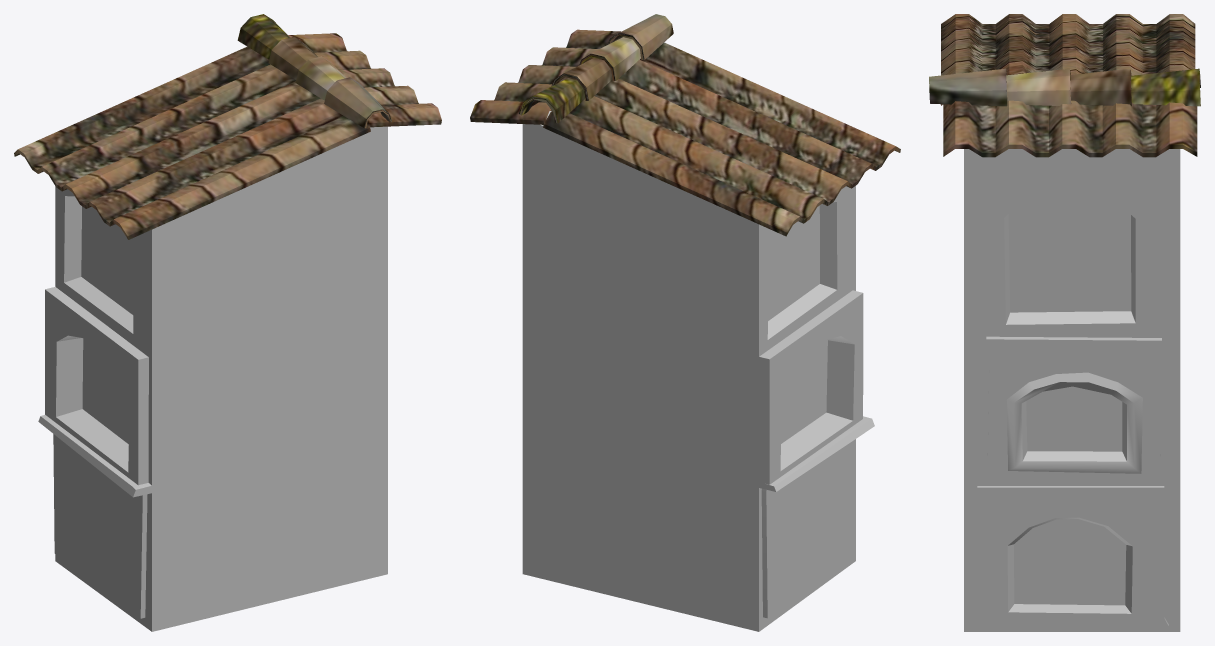
Rendered from nicho_grande_4.fbx.
3 renders of one model, left to right at view 1: azimuth 30°, elevation 25°; view 2: azimuth 150°, elevation 25°; view 3: azimuth 270°, elevation 25°, orthographic. The views are drawn at different scales.
Parts seen in each view (by area): view 1: Cube.027, Cube.028, Cube.026, Cube.002, Cube.025, Cube.003, Cube.024; view 2: Cube.027, Cube.028, Cube.026, Cube.025, Cube.002, Cube.003, Cube.024; view 3: Cube.027, Cube.028, Cube.026, Cube.002, Cube.025, Cube.003, Cube.024.
Boxes of the visible parts, left/top/right/bottom form: Cube.027: left=38, top=126, right=387, bottom=631; Cube.028: left=14, top=46, right=370, bottom=239; Cube.026: left=288, top=33, right=441, bottom=127; Cube.002: left=324, top=77, right=391, bottom=128; Cube.025: left=237, top=14, right=289, bottom=59; Cube.003: left=295, top=56, right=345, bottom=100; Cube.024: left=268, top=36, right=317, bottom=79; Cube.027: left=522, top=111, right=874, bottom=631; Cube.028: left=543, top=42, right=900, bottom=236; Cube.026: left=470, top=29, right=620, bottom=124; Cube.025: left=518, top=78, right=584, bottom=123; Cube.002: left=607, top=14, right=673, bottom=59; Cube.003: left=579, top=37, right=640, bottom=80; Cube.024: left=551, top=58, right=612, bottom=100; Cube.027: left=964, top=149, right=1180, bottom=631; Cube.028: left=941, top=14, right=1195, bottom=105; Cube.026: left=943, top=100, right=1197, bottom=157; Cube.002: left=929, top=68, right=1007, bottom=106; Cube.025: left=1131, top=68, right=1200, bottom=106; Cube.003: left=1006, top=68, right=1071, bottom=105; Cube.024: left=1070, top=68, right=1131, bottom=106.
Size of the model in its own units: 380 by 557 by 252.
